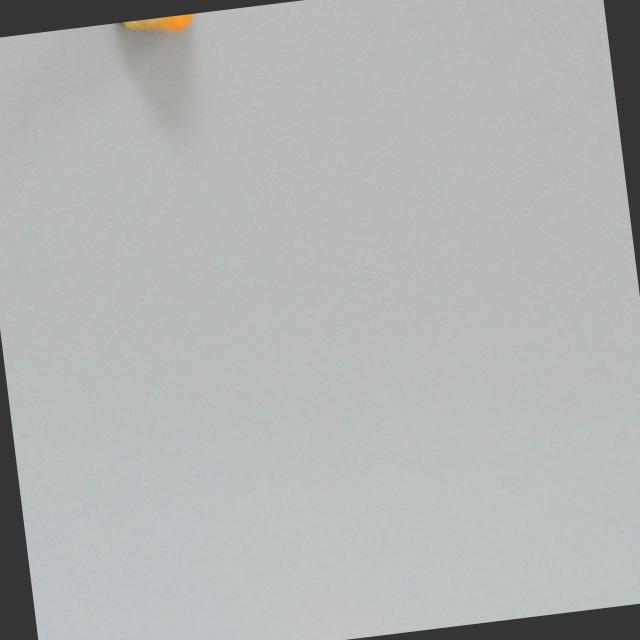dañado: (111, 12, 203, 44)
